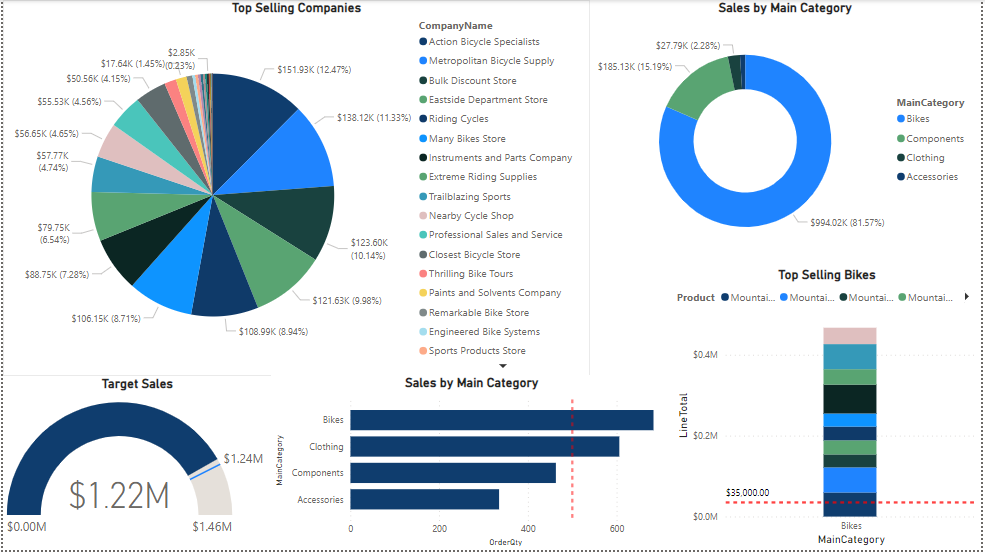

The page's visual inventory and layout, read from the dashboard file:
{"tool":"powerbi","page":{"name":"Page 1","canvas":[1280,720],"ordinal":0},"visuals":[{"type":"gauge","title":"Target Sales","fields":{"Y":["Sum(Sales.LineTotal)"],"TargetValue":["Sum(Sales.TargetSales)"]},"box":[0,491.7,351.7,228.3],"z":0},{"type":"pieChart","title":"Top Selling Companies","fields":{"Category":["Customers.CompanyName"],"Y":["Sum(Sales.LineTotal)"]},"box":[0,0,768.3,491.7],"z":1000},{"type":"donutChart","title":"Sales by Main Category","fields":{"Category":["Sales.MainCategory"],"Y":["Sum(Sales.LineTotal)"]},"box":[769,0,511.2,349.9],"z":2000},{"type":"barChart","title":"Sales by Main Category","fields":{"Category":["Sales.MainCategory"],"Y":["Sum(Sales.OrderQty)"]},"box":[351.4,491,525.6,229],"z":3000},{"type":"columnChart","title":"Top Selling Bikes","fields":{"Y":["Sum(Sales.LineTotal)"],"Category":["Sales.MainCategory"],"Series":["Sales.Product"]},"box":[877,349.9,403.2,370.1],"z":4000}]}

Visuals, with their boxes in screenshot pixels (x1, y1, x2, y2), scaled from the page's 1280x720 canvas onto the 985x555 screenshot:
"Target Sales" gauge: 0, 379, 271, 554
"Top Selling Companies" pieChart: 0, 0, 591, 379
"Sales by Main Category" donutChart: 592, 0, 984, 270
"Sales by Main Category" barChart: 270, 378, 675, 554
"Top Selling Bikes" columnChart: 675, 270, 984, 554
